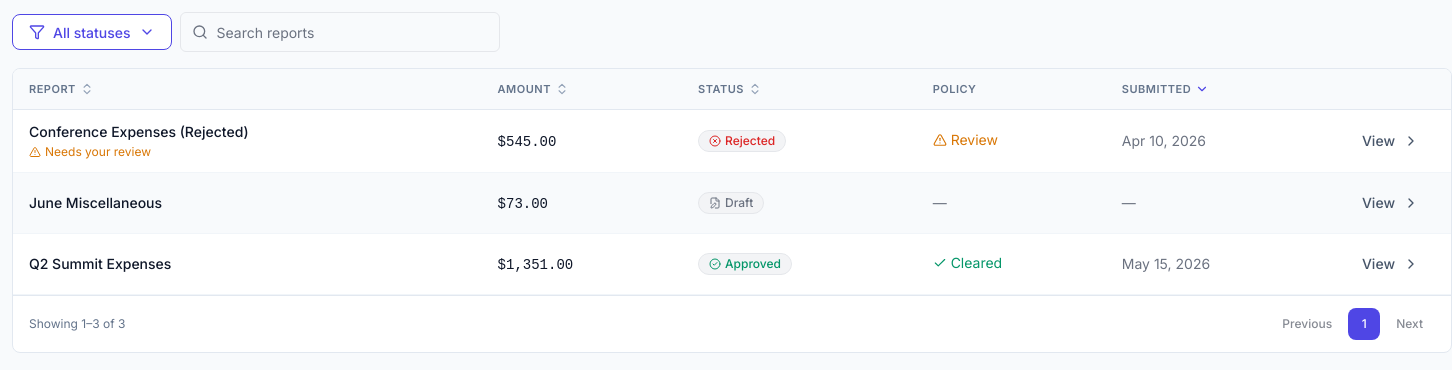
Test: ReportList › filters rows client-side by the search term (title)
Type "june" into the field with placeholder "Search reports" at coordinates (340, 32), box [180,12,500,52]
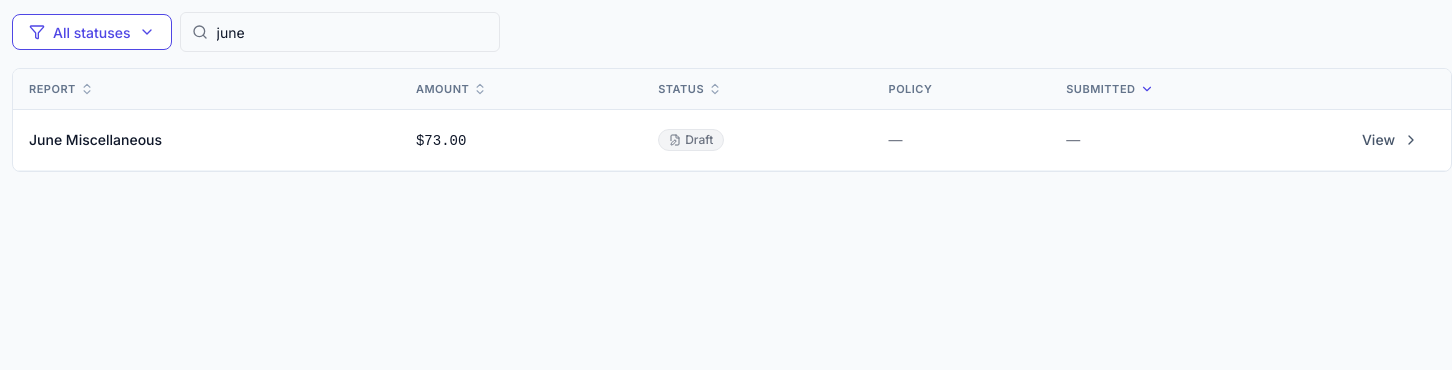
Expected: the text "June Miscellaneous" is shown, [29,131,162,148]
Expected: the text "Conference Expenses (Rejected)" is gone
